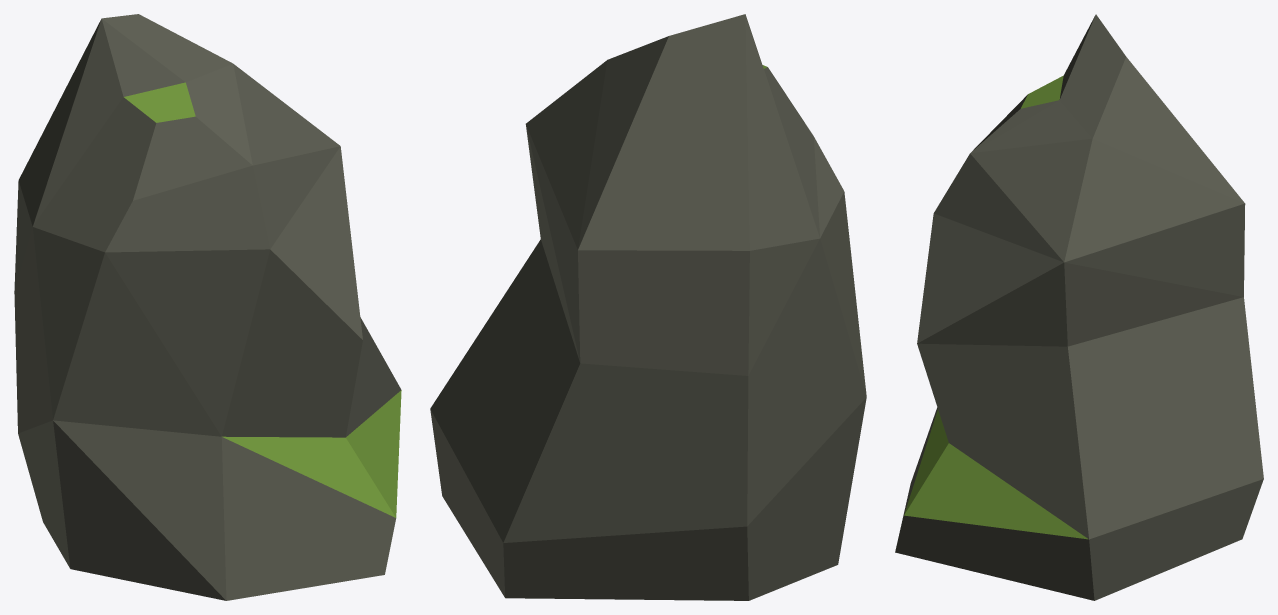
File: green_rock_M_01.fbx
The picture shows the model from 3 angles, left to right: view 1: azimuth 30°, elevation 25°; view 2: azimuth 150°, elevation 25°; view 3: azimuth 270°, elevation 25°; orthographic projection. The views are drawn at different scales.
Parts seen in each view (by area): view 1: Cube; view 2: Cube; view 3: Cube.
Boxes of the visible parts, x1=… form: Cube: x1=14, y1=14, x2=401, y2=600; Cube: x1=430, y1=14, x2=866, y2=600; Cube: x1=895, y1=14, x2=1263, y2=600.
Size of the model in its own units: 485 by 636 by 458.
